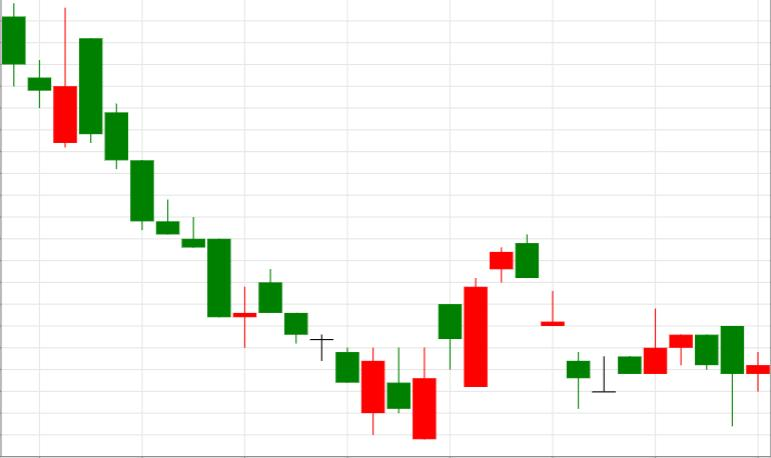bullish_engulfing_rise: (207, 238, 437, 439)
